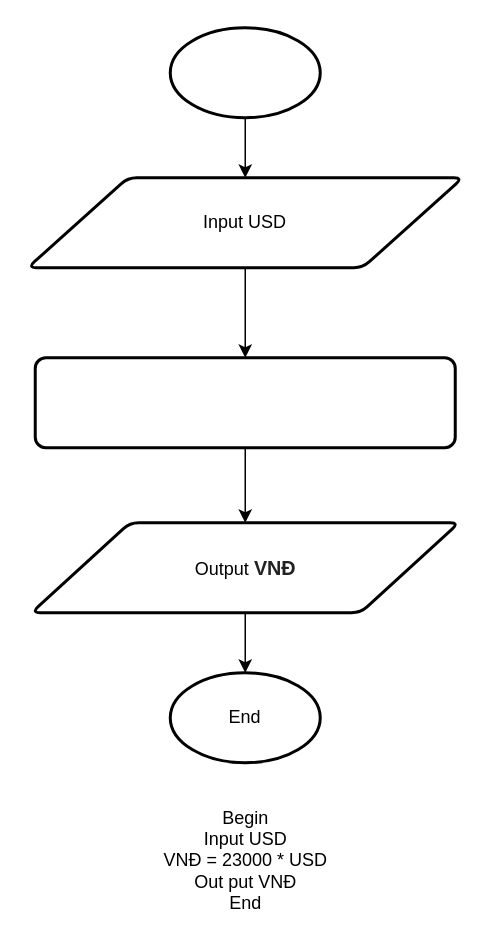
Image size: 489x939. Some labels were removed from this diagram. The shapes that lost their labels are listed below. From the top down, each one's box as (x1, y1, x2, y2) in pixels, then its label:
(168, 26, 321, 118): BEGIN
(33, 356, 456, 448): VNĐ = 23000 * USD
